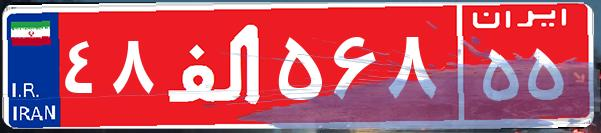4: (57, 26, 110, 107)
5: (273, 28, 330, 110), (475, 38, 525, 113), (525, 38, 570, 115)
6: (330, 28, 385, 110)
8: (385, 28, 445, 110), (110, 28, 158, 105)
الف: (158, 15, 273, 115)
